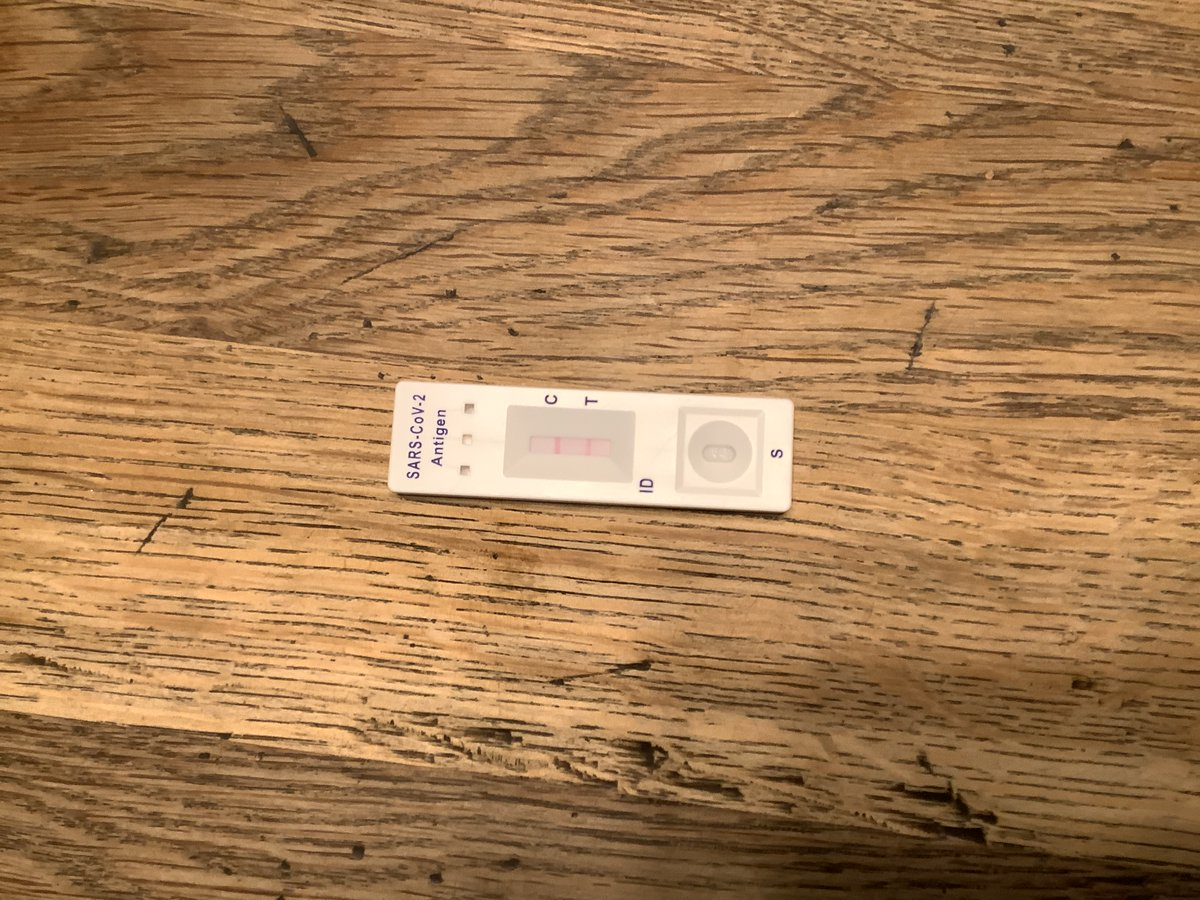positive: (531, 428, 621, 465)
